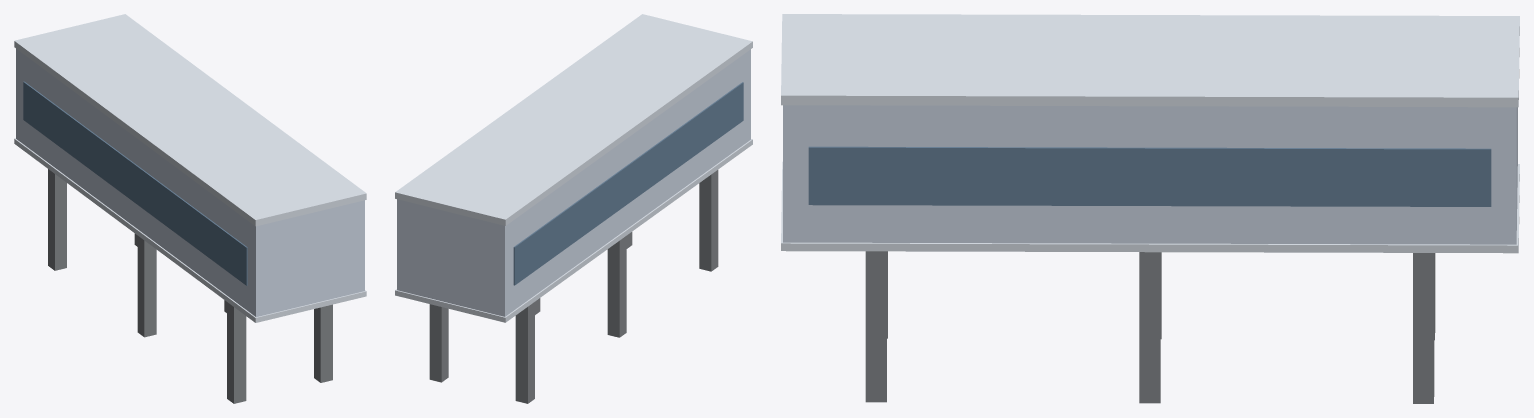
3 views of the same model, side by side, from view 1: azimuth 30°, elevation 25°; view 2: azimuth 150°, elevation 25°; view 3: azimuth 270°, elevation 25° (orthographic). The views are drawn at different scales.
Parts seen in each view (by area): view 1: shed7__trim-concrete, shed7__wall-plaster, shed7__glass, shed7__base-stone; view 2: shed7__trim-concrete, shed7__wall-plaster, shed7__glass, shed7__base-stone; view 3: shed7__trim-concrete, shed7__wall-plaster, shed7__glass, shed7__base-stone.
Boxes of the visible parts, bbox=[...] form: shed7__trim-concrete: bbox=[14, 14, 366, 322]; shed7__wall-plaster: bbox=[16, 48, 364, 316]; shed7__glass: bbox=[23, 81, 247, 285]; shed7__base-stone: bbox=[48, 169, 332, 403]; shed7__trim-concrete: bbox=[395, 14, 752, 322]; shed7__wall-plaster: bbox=[397, 49, 750, 316]; shed7__glass: bbox=[513, 82, 743, 285]; shed7__base-stone: bbox=[429, 170, 718, 403]; shed7__trim-concrete: bbox=[781, 14, 1519, 253]; shed7__wall-plaster: bbox=[783, 105, 1517, 244]; shed7__glass: bbox=[808, 146, 1491, 206]; shed7__base-stone: bbox=[865, 251, 1435, 403].
Bounding box in the file's own units: 4.68 × 8.1 × 17.44.
